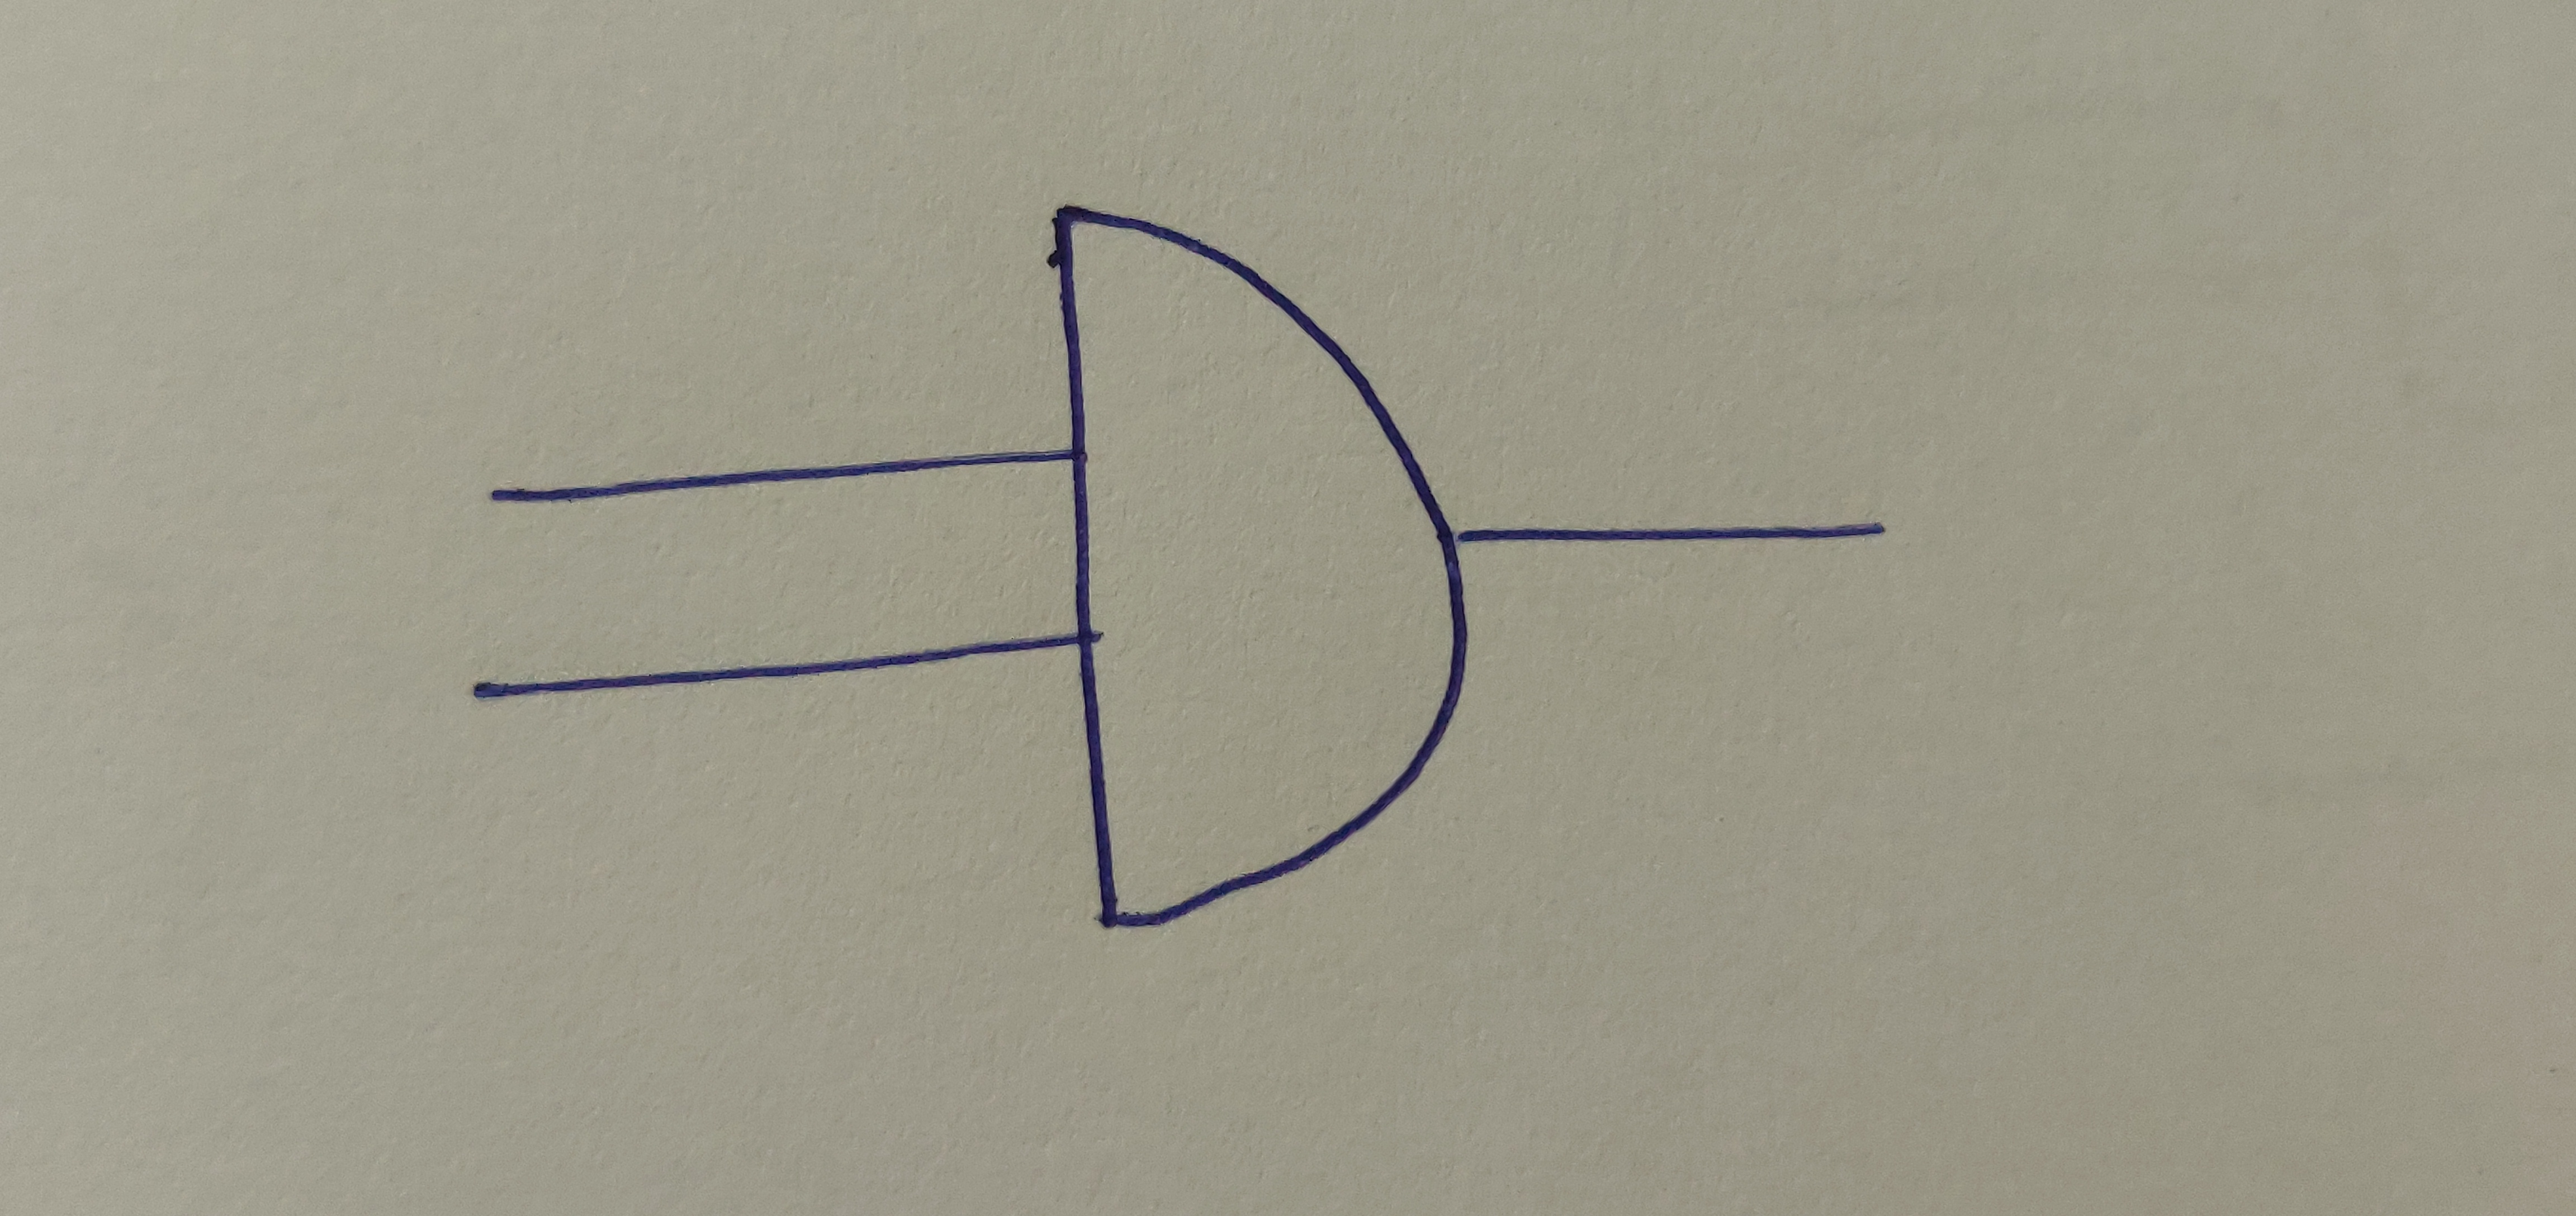and: (1050, 199, 1474, 932)
